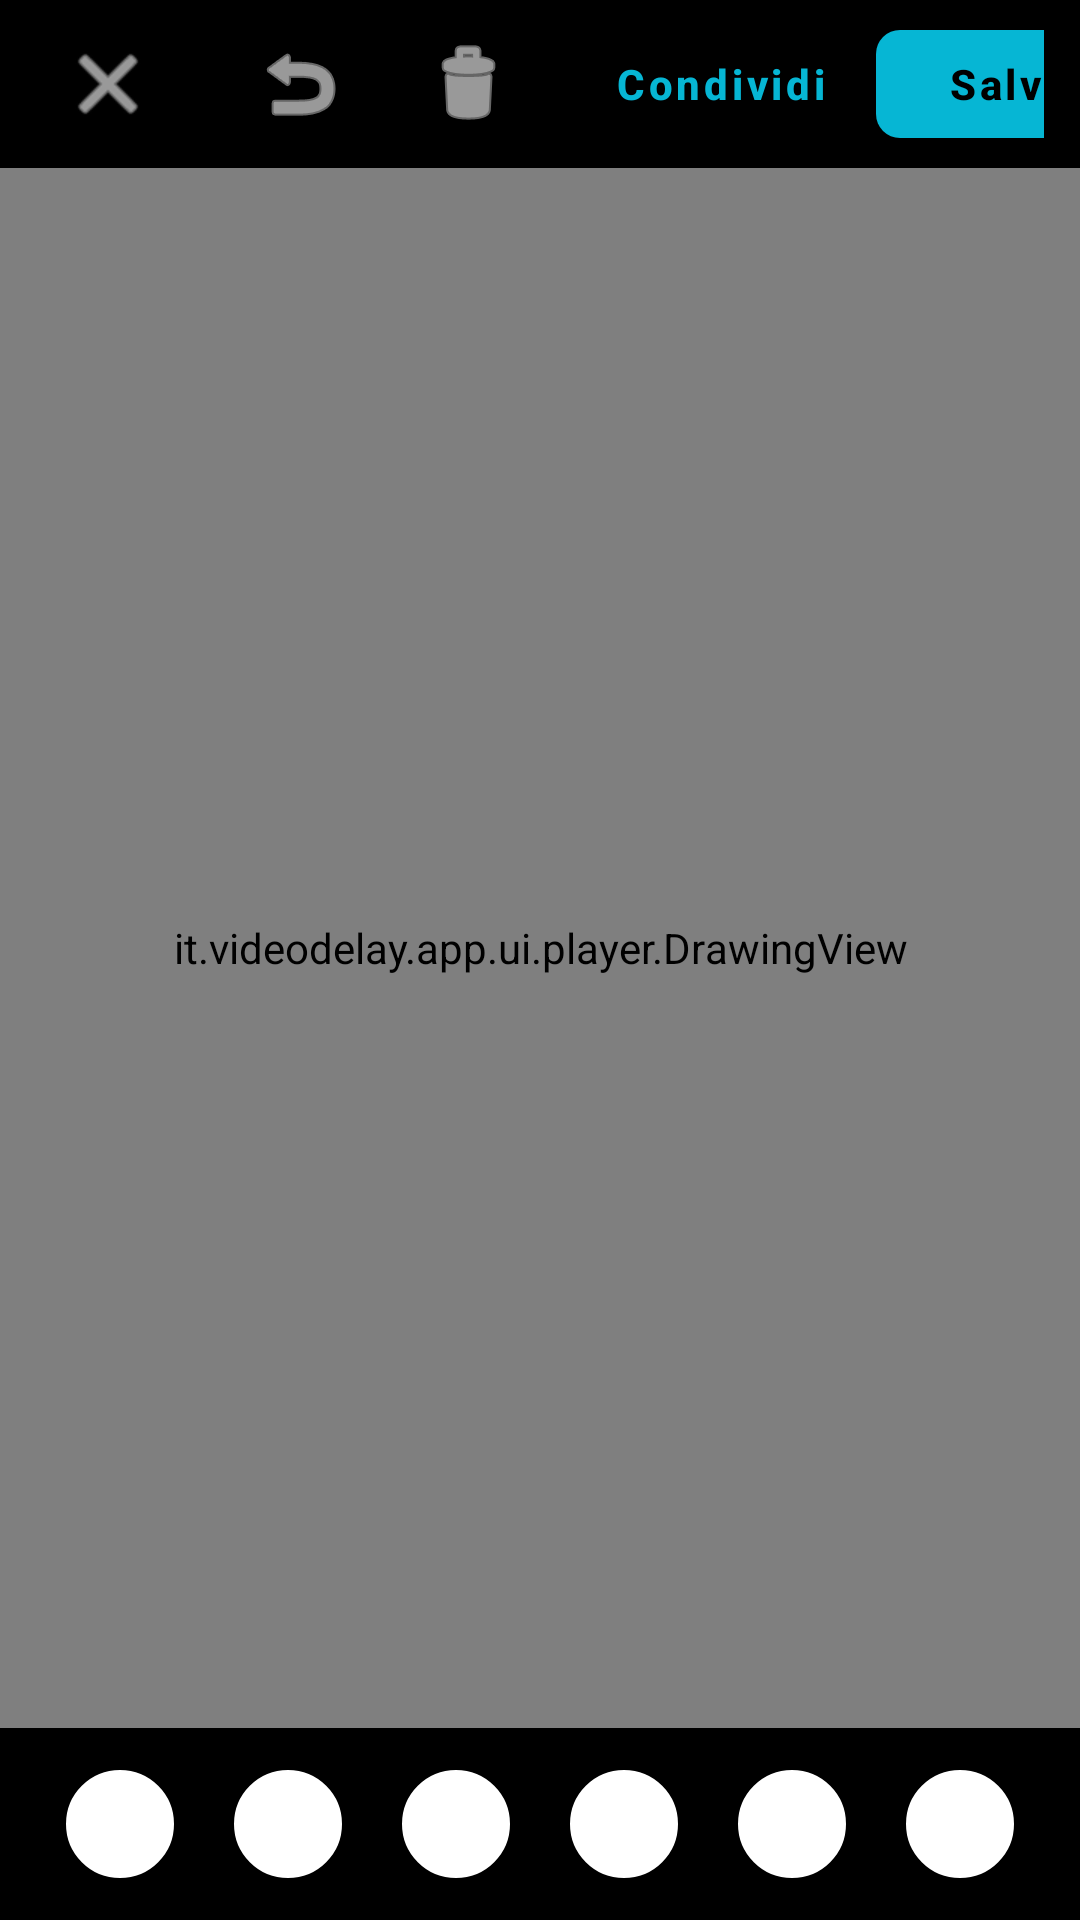

Locate icon controls on the screen. Image size 1080 × 1920, boxes as (x1, y1, x2, y2).
Annulla: (267, 53, 336, 116)
Cancella tutto: (441, 45, 496, 120)
Chiudi: (78, 54, 138, 114)
